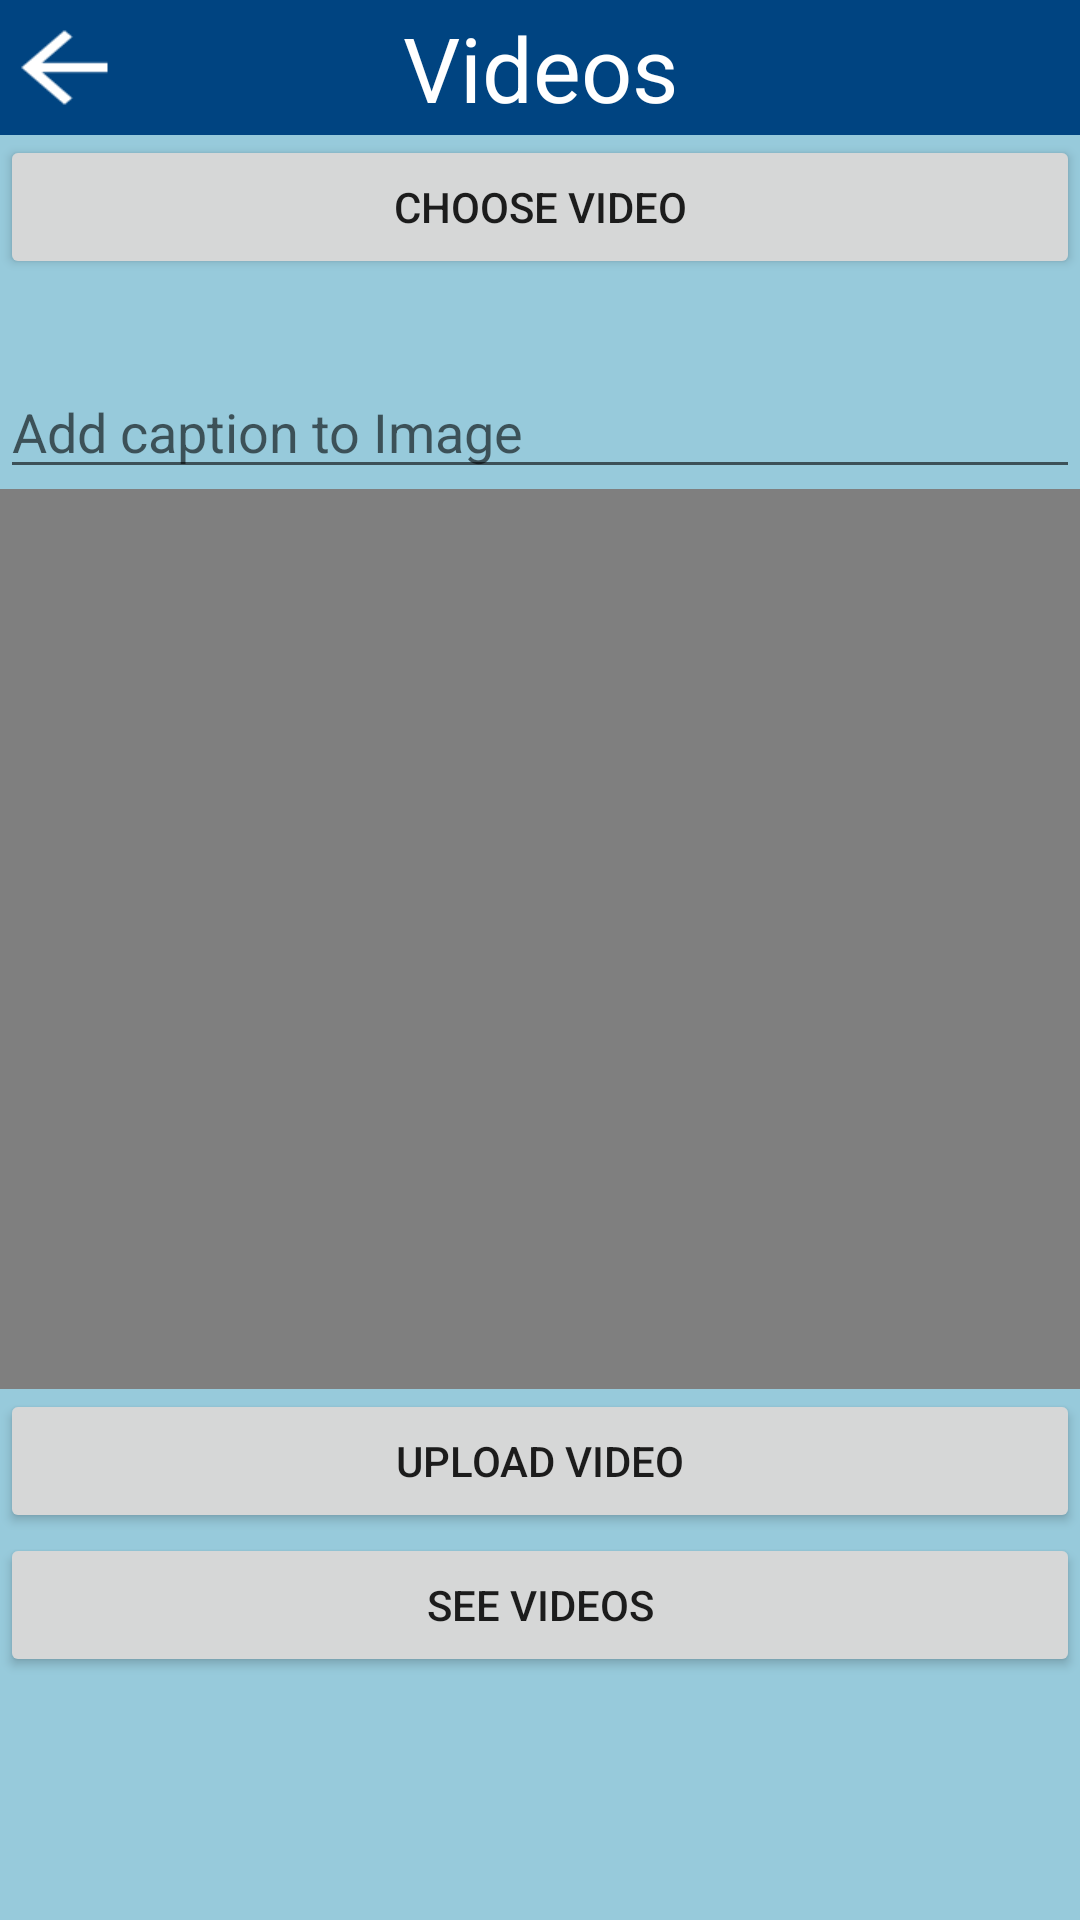

Screen size 1080x1920. Icon name, then its box in pixels as {"x1": x1, "y1": y1, "x2": x2, "y2": y2}:
back: {"x1": 21, "y1": 30, "x2": 108, "y2": 105}
